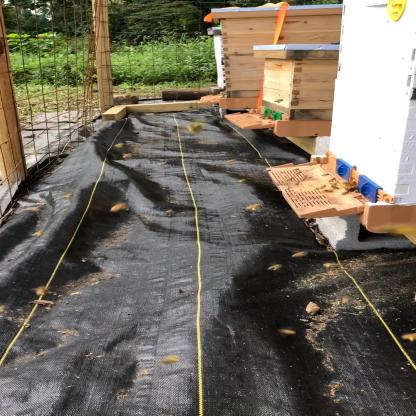bee: (171, 113, 226, 142), (299, 176, 363, 197), (306, 180, 372, 198), (281, 162, 324, 182), (108, 144, 149, 162), (258, 260, 295, 274), (288, 246, 316, 261), (240, 201, 272, 213), (222, 156, 244, 170), (106, 203, 128, 215), (228, 174, 248, 186)
